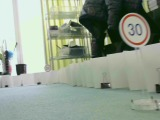speed_30: (117, 11, 151, 49)
